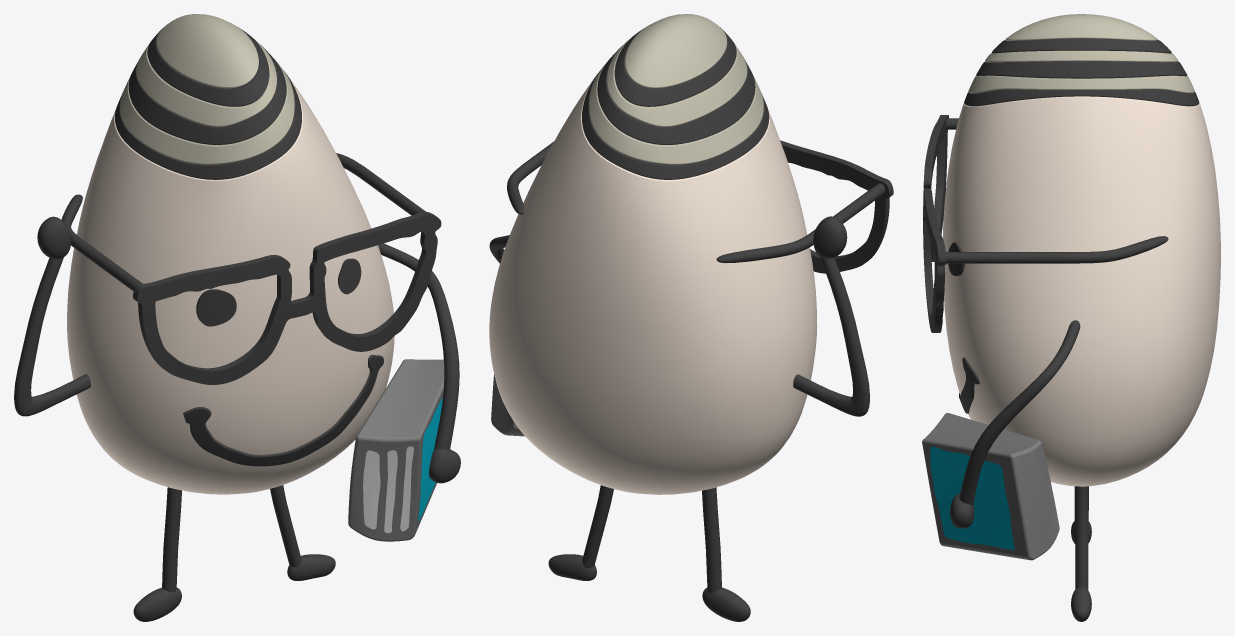
3 renders of one model, left to right at view 1: azimuth 30°, elevation 25°; view 2: azimuth 150°, elevation 25°; view 3: azimuth 270°, elevation 25°, orthographic. The views are drawn at different scales.
Visible parts, largest first — view 1: 032_meganegomakun; view 2: 032_meganegomakun; view 3: 032_meganegomakun.
Part boxes in pixels (bbox=[...]): 032_meganegomakun: bbox=[14, 14, 460, 621]; 032_meganegomakun: bbox=[489, 14, 893, 621]; 032_meganegomakun: bbox=[922, 14, 1220, 621].
Bounding box in the file's own units: 0.1169 × 0.1599 × 0.0778.
